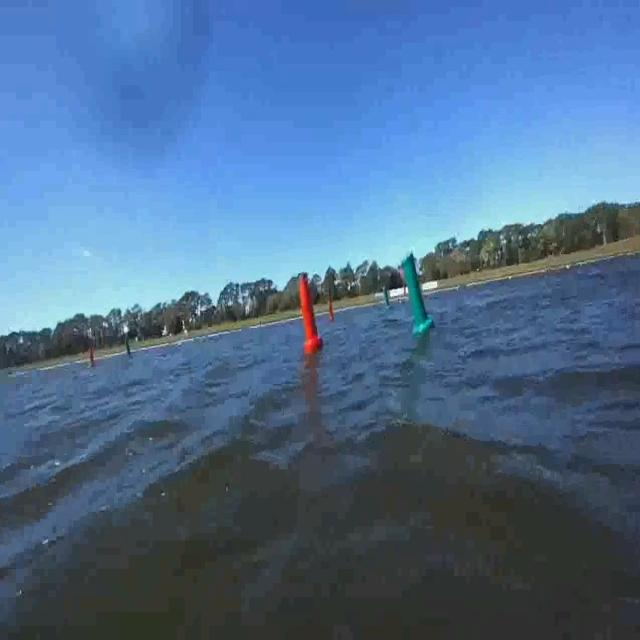green-column-buoy: (402, 253, 436, 335), (125, 333, 135, 359), (383, 286, 392, 309)
red-column-buoy: (298, 274, 323, 352), (90, 345, 98, 369), (327, 294, 334, 320)
